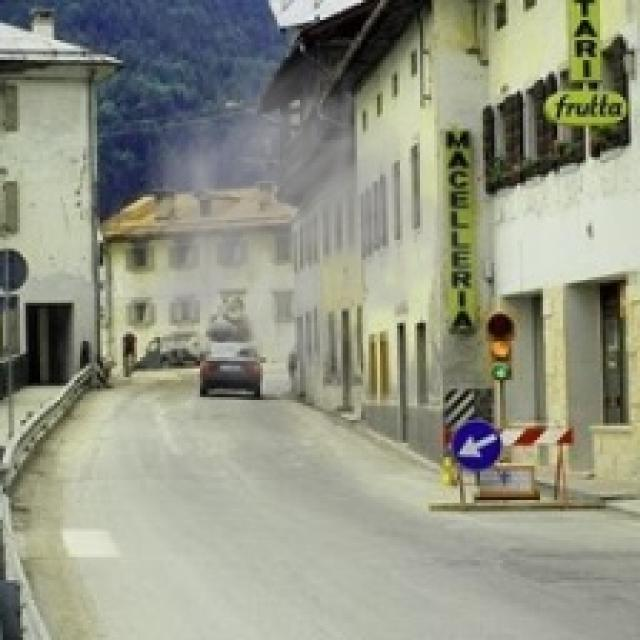smoke: (123, 40, 491, 411)
